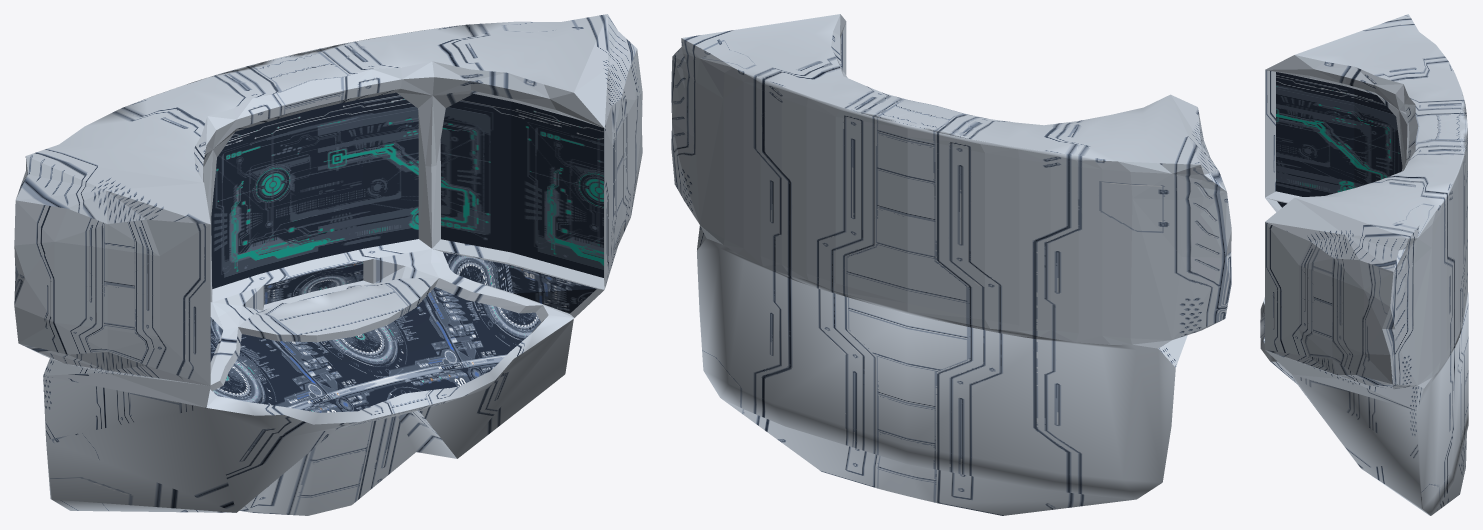
The model's file is wall-console.glb.
The picture shows the model from 3 angles, left to right: view 1: azimuth 30°, elevation 25°; view 2: azimuth 150°, elevation 25°; view 3: azimuth 270°, elevation 25°; orthographic projection. The views are drawn at different scales.
Parts seen in each view (by area): view 1: MaterialFBXASC032FBXASC0352142150880, MaterialFBXASC032FBXASC0352142148966, MaterialFBXASC032FBXASC0352142148579; view 2: MaterialFBXASC032FBXASC0352142150880; view 3: MaterialFBXASC032FBXASC0352142150880, MaterialFBXASC032FBXASC0352142148966.
Boxes of the visible parts, x1,y1,x2,y2 form: MaterialFBXASC032FBXASC0352142150880: (14,14,642,515); MaterialFBXASC032FBXASC0352142148966: (211,92,603,288); MaterialFBXASC032FBXASC0352142148579: (210,252,596,412); MaterialFBXASC032FBXASC0352142150880: (671,14,1231,515); MaterialFBXASC032FBXASC0352142150880: (1260,14,1468,515); MaterialFBXASC032FBXASC0352142148966: (1276,72,1402,196).
Bounding box in the file's own units: 2.4 × 1.52 × 0.8714.
3 materials, 3 textured.
